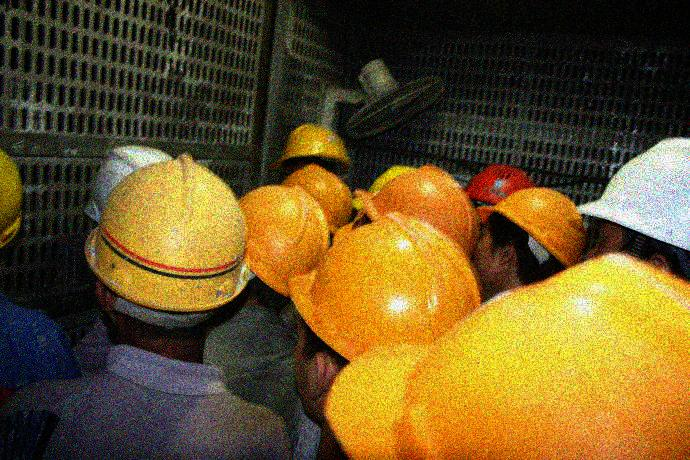helmet: (286, 216, 485, 420), (86, 154, 249, 352), (578, 131, 690, 278), (472, 184, 587, 299), (236, 182, 332, 309), (267, 121, 353, 186), (463, 161, 541, 211)
